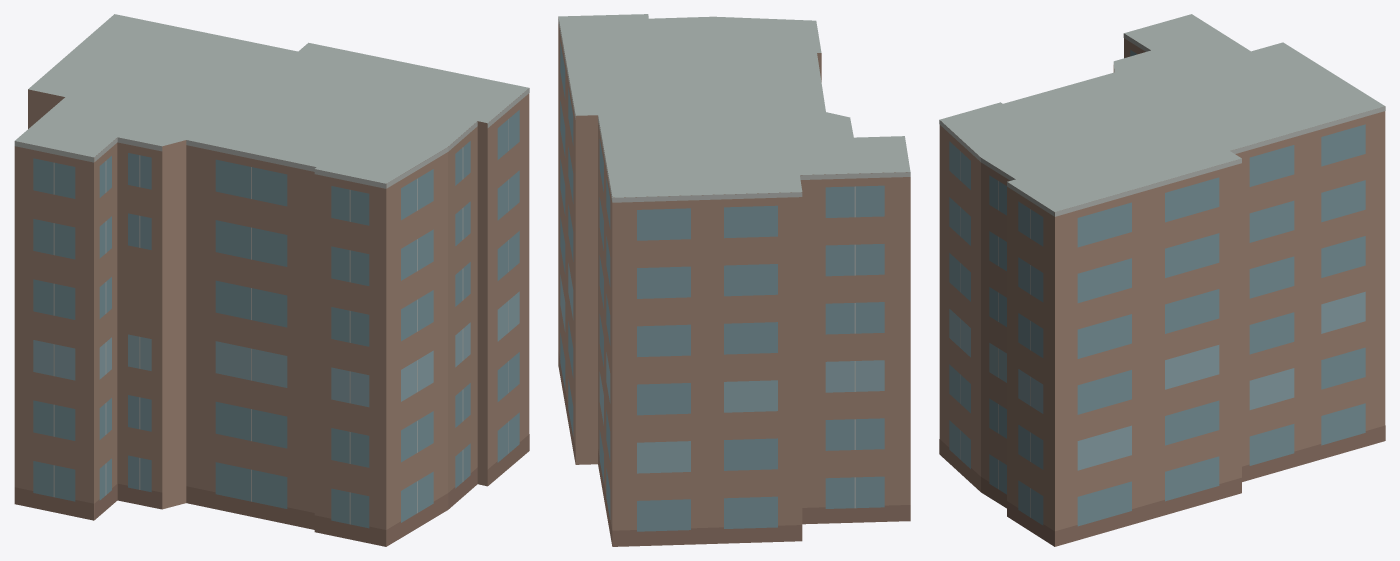
The model's file is survey-upis-32989378.glb.
3 views of the same model, side by side, from view 1: azimuth 30°, elevation 25°; view 2: azimuth 150°, elevation 25°; view 3: azimuth 270°, elevation 25° (orthographic). The views are drawn at different scales.
Parts seen in each view (by area): view 1: survey-upis-32989378.tmp; view 2: survey-upis-32989378.tmp; view 3: survey-upis-32989378.tmp.
Boxes of the visible parts, x1,y1,x2,y2 form: survey-upis-32989378.tmp: (14, 14, 529, 546); survey-upis-32989378.tmp: (558, 14, 910, 546); survey-upis-32989378.tmp: (939, 14, 1385, 546).
Bounding box in the file's own units: 21.85 × 17.2 × 20.77.
